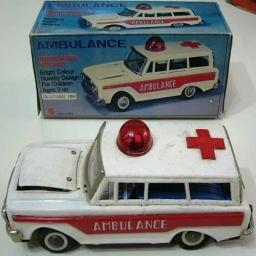Ambulance: (2, 120, 253, 251), (81, 36, 218, 110), (78, 3, 201, 30)
